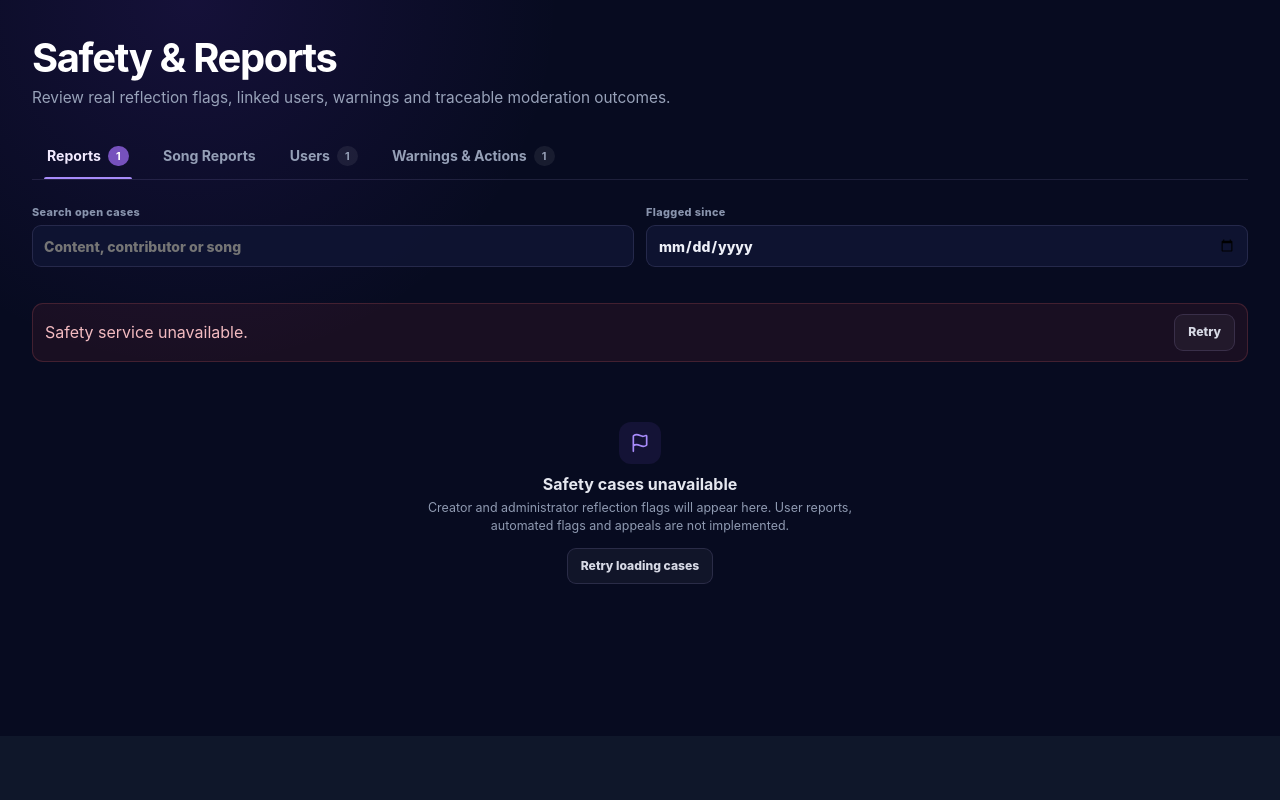
Safety & Reports administration › uses an intentional retryable error state without showing an empty success state
Check: the heading "Safety cases unavailable" is shown, box [543,472,737,496]
Check: the heading "No open reflection cases" is not shown
What coordinates should you click on to do the following:
click the button "Retry loading cases"
I would click on:
 (640, 566)
Its box is [567,548,713,584].
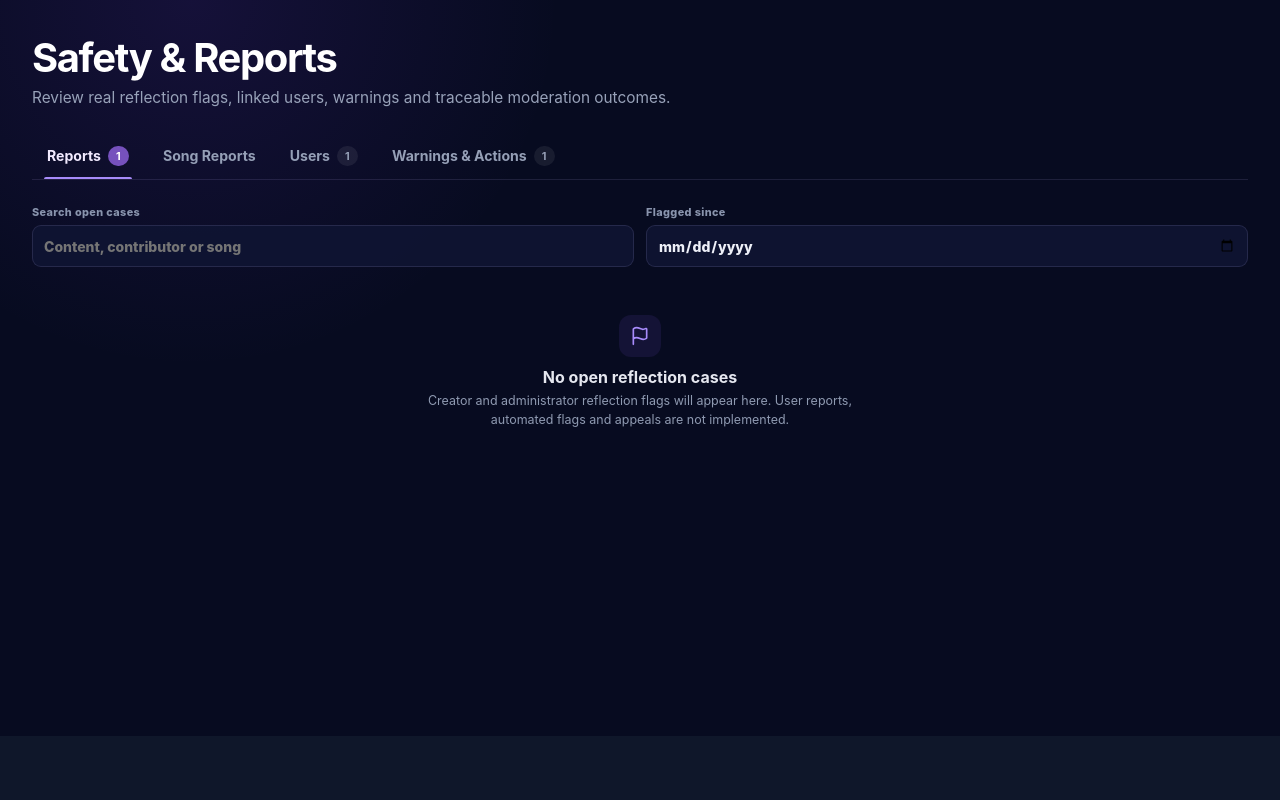
Check: the heading "No open reflection cases" is shown, box [543,365,737,389]
